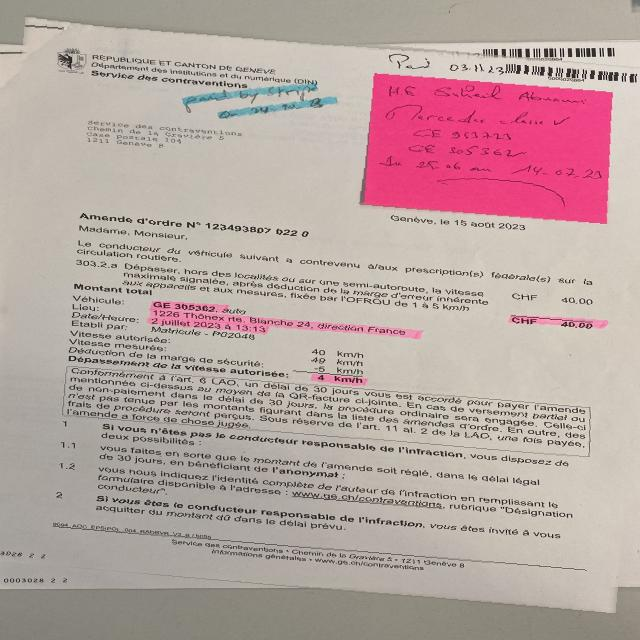paper-document-: (0, 18, 640, 614)
